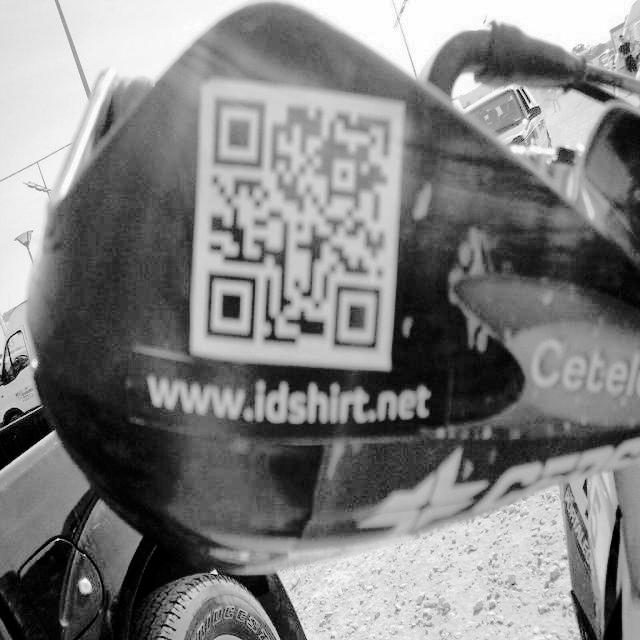qr_code: (205, 98, 390, 350)
